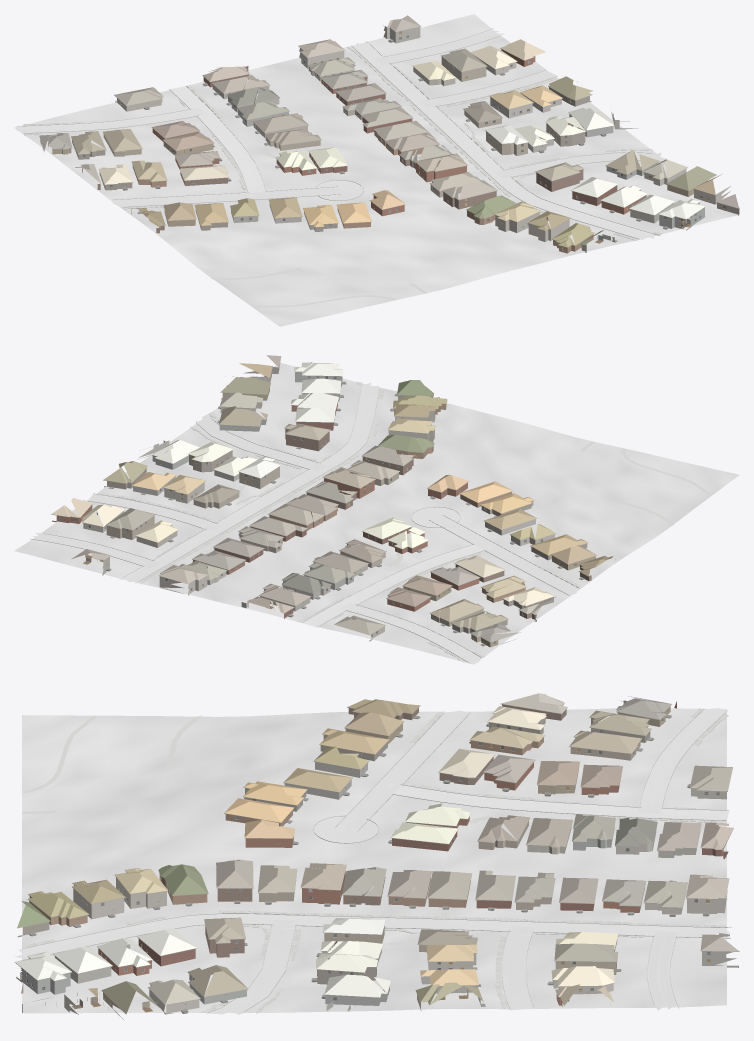
The picture shows the model from 3 angles, top to bottom: view 1: azimuth 30°, elevation 25°; view 2: azimuth 150°, elevation 25°; view 3: azimuth 270°, elevation 25°; orthographic projection. The views are drawn at different scales.
Visible parts, largest first — view 1: ground, roof, concrete, wall, wall_stucco, detail, walk, curb, asphalt, wall_stone, glass; view 2: ground, roof, concrete, wall, detail, wall_stucco, walk, curb, asphalt, wall_stone; view 3: ground, roof, concrete, wall, wall_stucco, detail, walk, asphalt, curb, wall_stone, glass.
Part boxes in pixels (box(x1,y1,x2,y2)): ground: box(14, 14, 739, 326); roof: box(39, 15, 738, 247); concrete: box(112, 41, 667, 239); wall: box(40, 49, 739, 253); wall_stucco: box(115, 26, 730, 241); detail: box(39, 25, 738, 250); walk: box(22, 46, 664, 307); curb: box(17, 28, 664, 240); asphalt: box(15, 30, 504, 133); wall_stone: box(228, 93, 561, 223); glass: box(76, 35, 725, 226); ground: box(14, 363, 739, 664); roof: box(51, 355, 612, 642); concrete: box(88, 382, 578, 627); wall: box(52, 362, 595, 647); detail: box(51, 368, 615, 646); wall_stucco: box(83, 371, 435, 641); walk: box(98, 382, 712, 662); curb: box(30, 382, 578, 662); asphalt: box(33, 532, 481, 664); wall_stone: box(133, 470, 554, 599); ground: box(22, 708, 726, 1013); roof: box(15, 693, 739, 1014); concrete: box(14, 710, 730, 1014); wall: box(17, 700, 728, 1019); wall_stucco: box(16, 788, 738, 1014); detail: box(14, 700, 739, 1013); walk: box(22, 708, 728, 1013); asphalt: box(639, 708, 727, 1010); curb: box(22, 709, 731, 1013); wall_stone: box(284, 756, 656, 993); glass: box(21, 712, 719, 1000).
Bounding box in the file's own units: 265 × 12.59 × 257.
